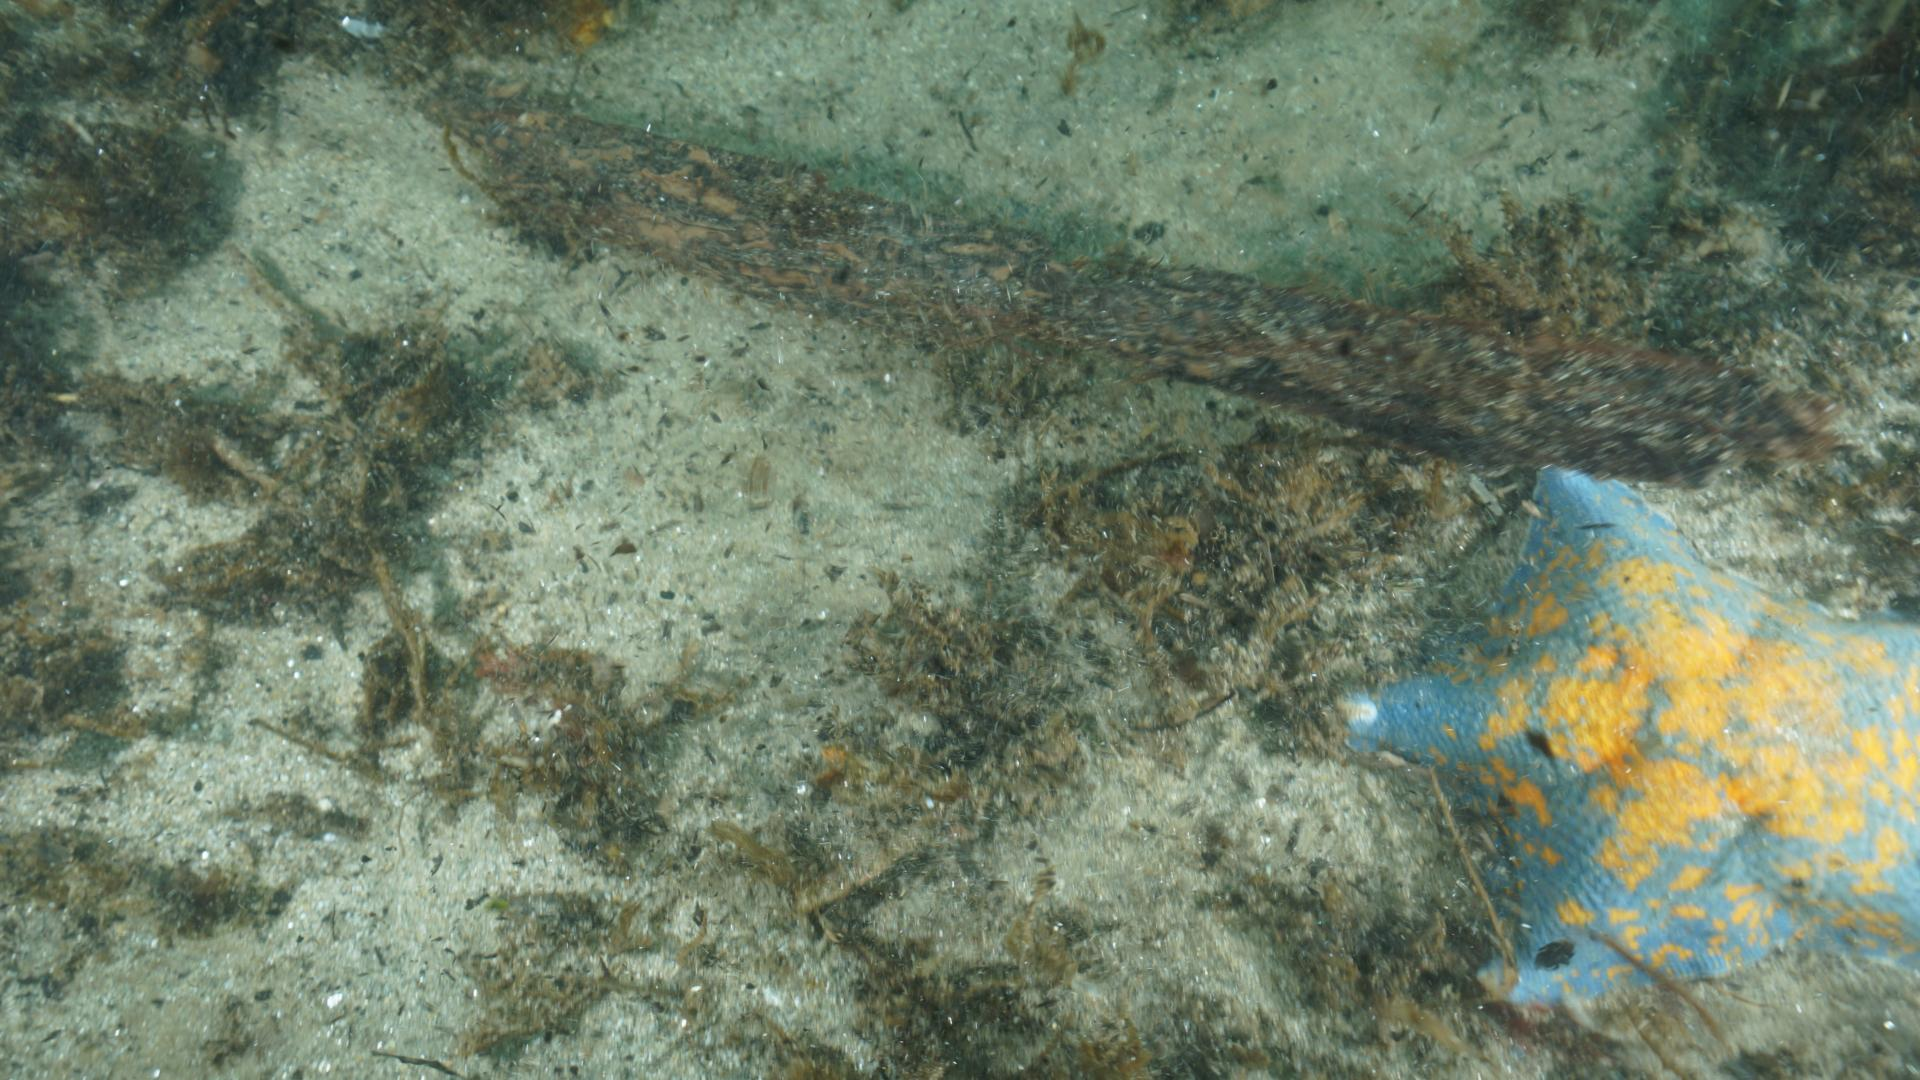wood: (415, 69, 1838, 495)
